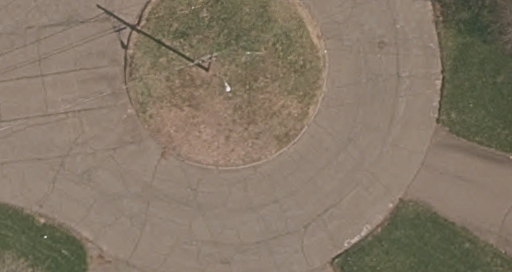DT: (193, 50, 220, 72)
